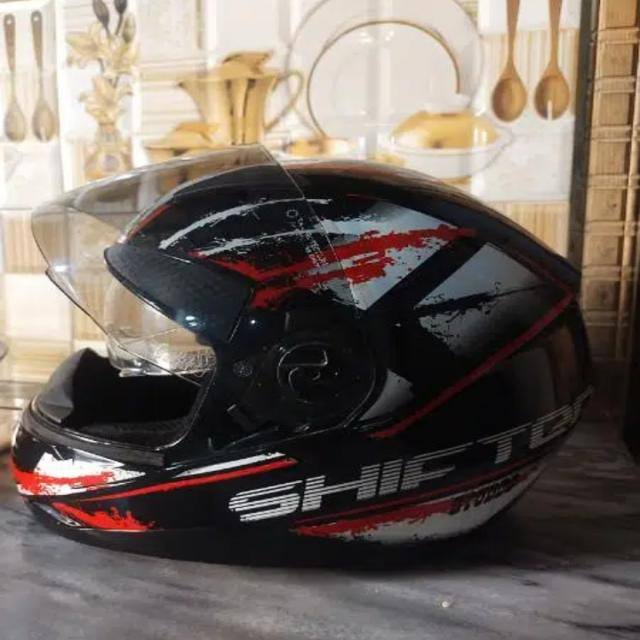Helmet: (30, 151, 590, 578)
